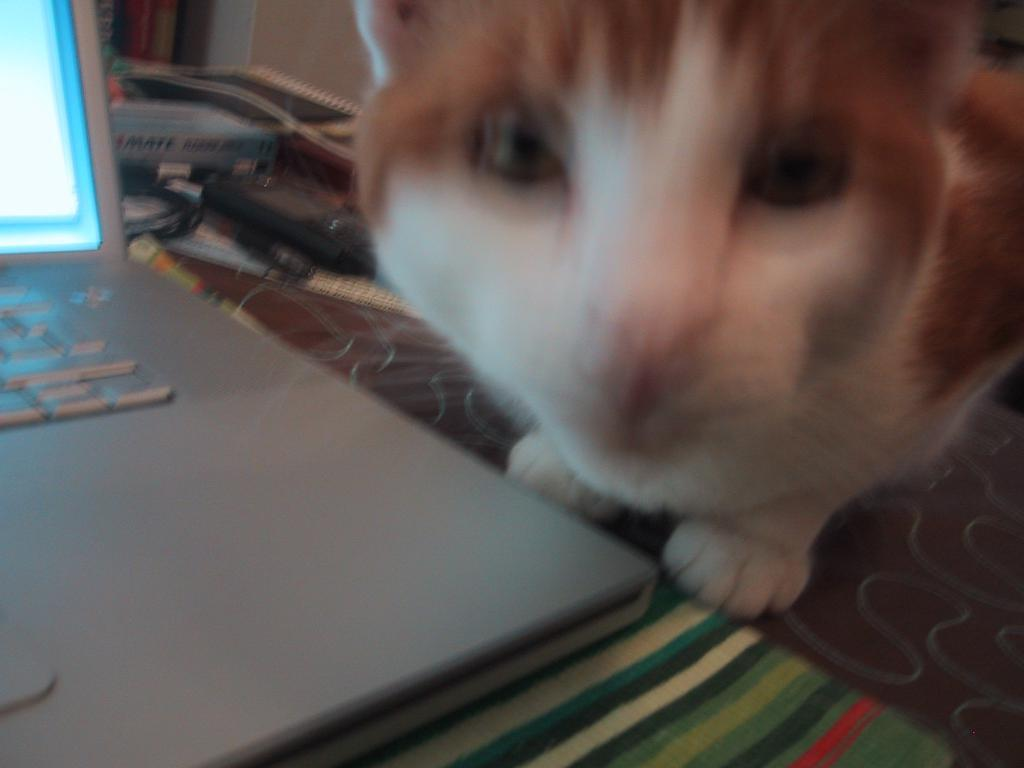Laptop: (0, 0, 654, 767)
